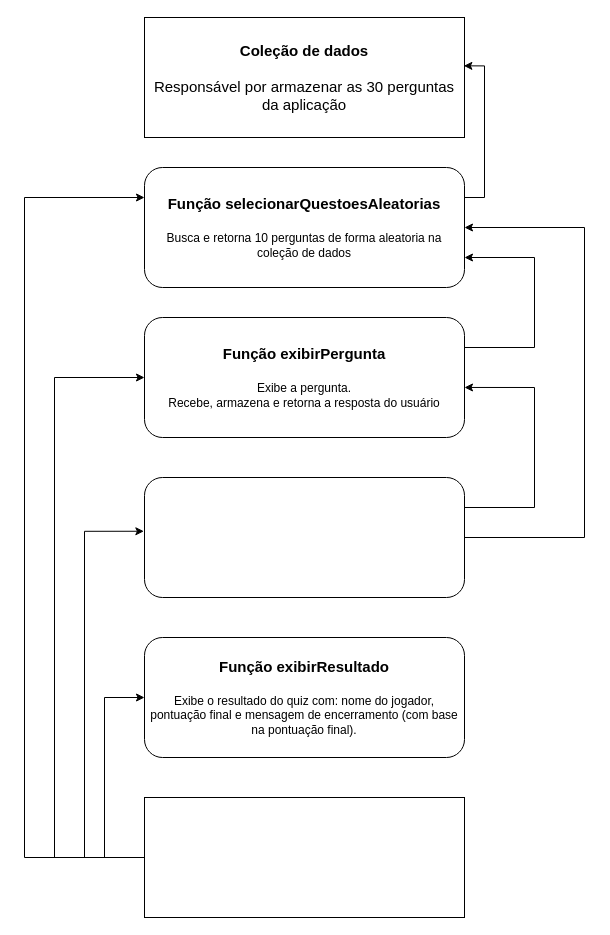
Image size: 610x935. Some labels were removed from this diagram. The shapes that lost their labels are listed below. From the top down, each one's centre as x and y in pixels, then its label:
At point (304, 537): "Função validarRespostaDoUsuario Verifica se a resposta do usuário está correta".
At point (304, 857): "Função iniciarQuiz Responsável por executar o jogo".
